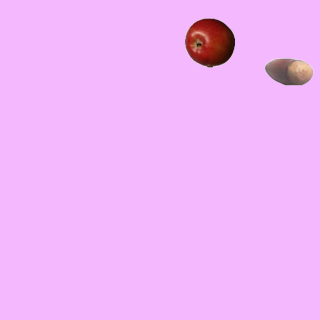Apple Braeburn: (184, 17, 234, 67)
Hazelnut: (263, 46, 313, 96)
